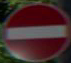No entry: (4, 5, 68, 51)
